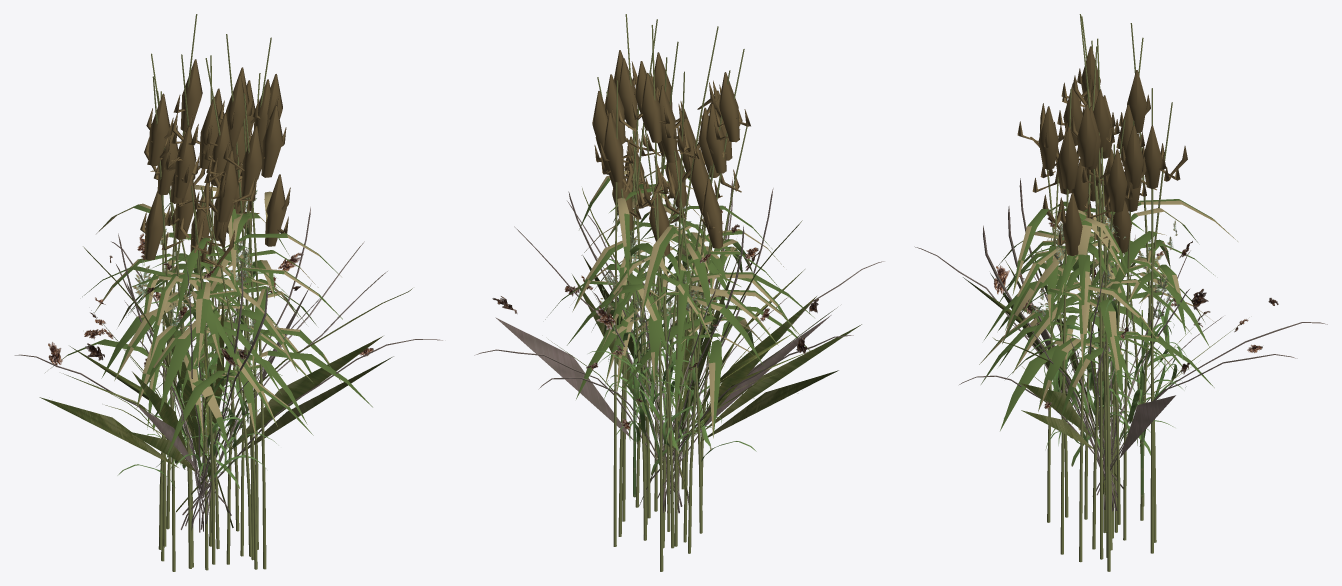
File: vegetation_06.glb
The picture shows the model from 3 angles, left to right: view 1: azimuth 30°, elevation 25°; view 2: azimuth 150°, elevation 25°; view 3: azimuth 270°, elevation 25°; orthographic projection. The views are drawn at different scales.
Visible parts, largest first — view 1: prototype_049, prototype_055, prototype_048, prototype_052, prototype_054, prototype_050, prototype_051, prototype_053; view 2: prototype_048, prototype_055, prototype_052, prototype_049, prototype_054, prototype_050, prototype_051, prototype_053; view 3: prototype_055, prototype_048, prototype_049, prototype_052, prototype_054, prototype_050, prototype_053, prototype_051.
Part boxes in pixels (x1=…): prototype_049: x1=94, y1=34, x2=372, y2=569; prototype_055: x1=140, y1=53, x2=341, y2=568; prototype_048: x1=45, y1=14, x2=342, y2=571; prototype_052: x1=14, y1=207, x2=442, y2=532; prototype_054: x1=103, y1=35, x2=314, y2=568; prototype_050: x1=117, y1=190, x2=276, y2=488; prototype_051: x1=88, y1=264, x2=320, y2=498; prototype_053: x1=132, y1=228, x2=265, y2=482; prototype_048: x1=567, y1=14, x2=814, y2=571; prototype_055: x1=545, y1=52, x2=810, y2=546; prototype_052: x1=474, y1=177, x2=884, y2=513; prototype_049: x1=574, y1=19, x2=796, y2=536; prototype_054: x1=581, y1=35, x2=778, y2=536; prototype_050: x1=588, y1=171, x2=756, y2=497; prototype_051: x1=548, y1=254, x2=788, y2=475; prototype_053: x1=600, y1=207, x2=721, y2=457; prototype_055: x1=998, y1=37, x2=1191, y2=553; prototype_048: x1=981, y1=14, x2=1214, y2=557; prototype_049: x1=979, y1=38, x2=1214, y2=571; prototype_052: x1=914, y1=178, x2=1327, y2=511; prototype_054: x1=998, y1=47, x2=1237, y2=562; prototype_050: x1=1029, y1=212, x2=1186, y2=497; prototype_053: x1=1031, y1=220, x2=1186, y2=449; prototype_051: x1=1007, y1=235, x2=1248, y2=474.
Bounding box in the file's own units: 2.2 × 3.25 × 2.3.
11 materials, 7 textured.
